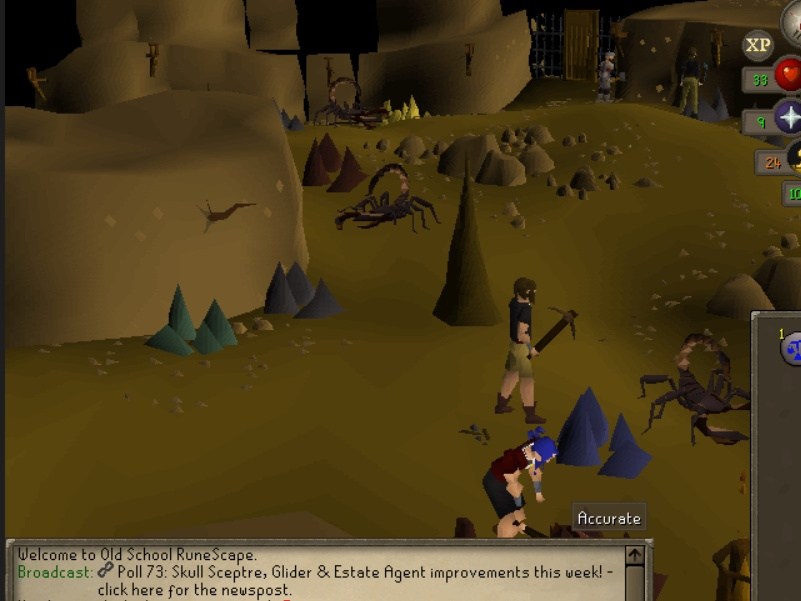adamant: (139, 279, 242, 360)
gold: (377, 94, 431, 123)
iron: (299, 131, 368, 200)
mithril: (547, 385, 656, 485)
